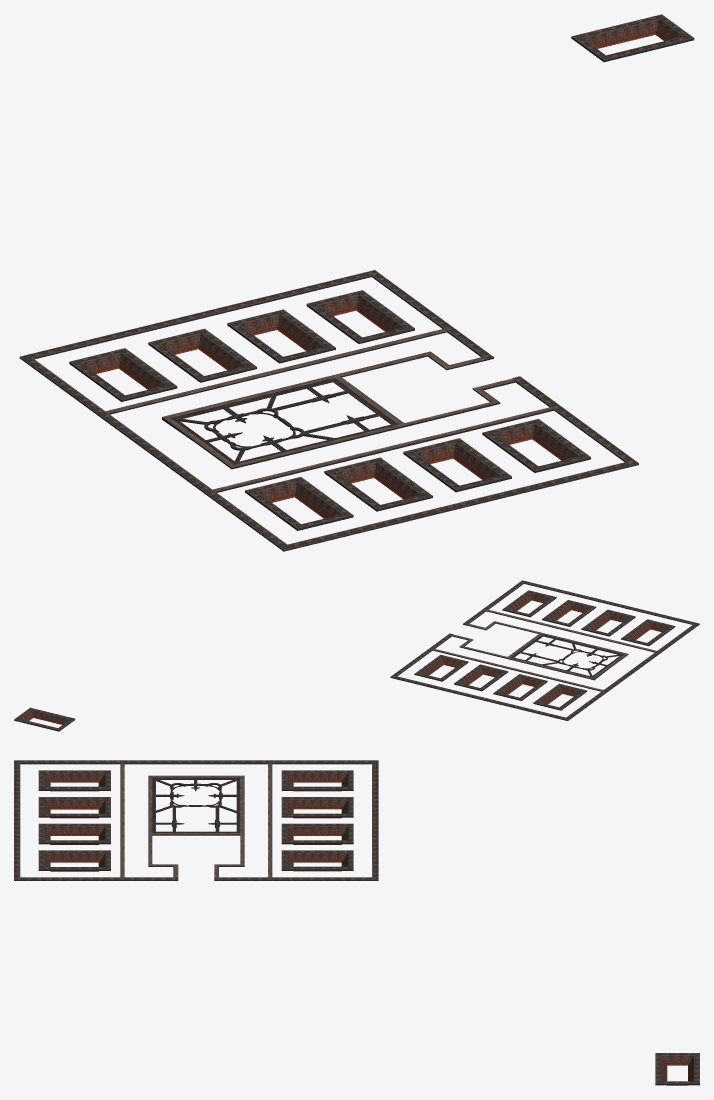
The model's file is rysd_dim_01.FBX.
The picture shows the model from 3 angles, top to bottom: view 1: azimuth 30°, elevation 25°; view 2: azimuth 150°, elevation 25°; view 3: azimuth 270°, elevation 25°; orthographic projection. The views are drawn at different scales.
Parts seen in each view (by area): view 1: rysd_dim_01; view 2: rysd_dim_01; view 3: rysd_dim_01.
Part boxes in pixels (<box>): rysd_dim_01: <box>19,14,694,551</box>; rysd_dim_01: <box>14,580,699,731</box>; rysd_dim_01: <box>14,760,699,1085</box>.
Size of the model in its own units: 7732 by 444 by 7605.
